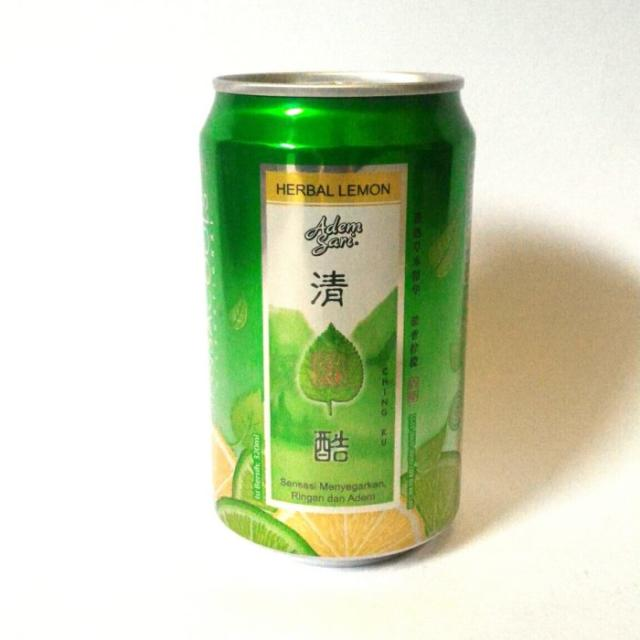ademsarikaleng: (198, 69, 477, 568)
